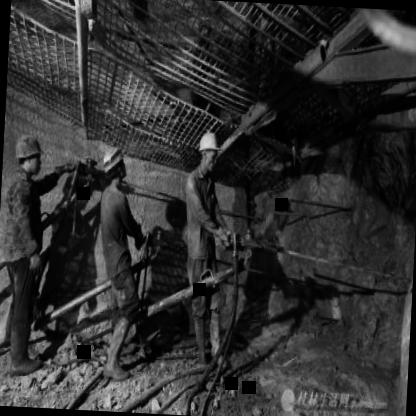helmet: (12, 134, 44, 180), (97, 143, 128, 188), (194, 130, 223, 177)
